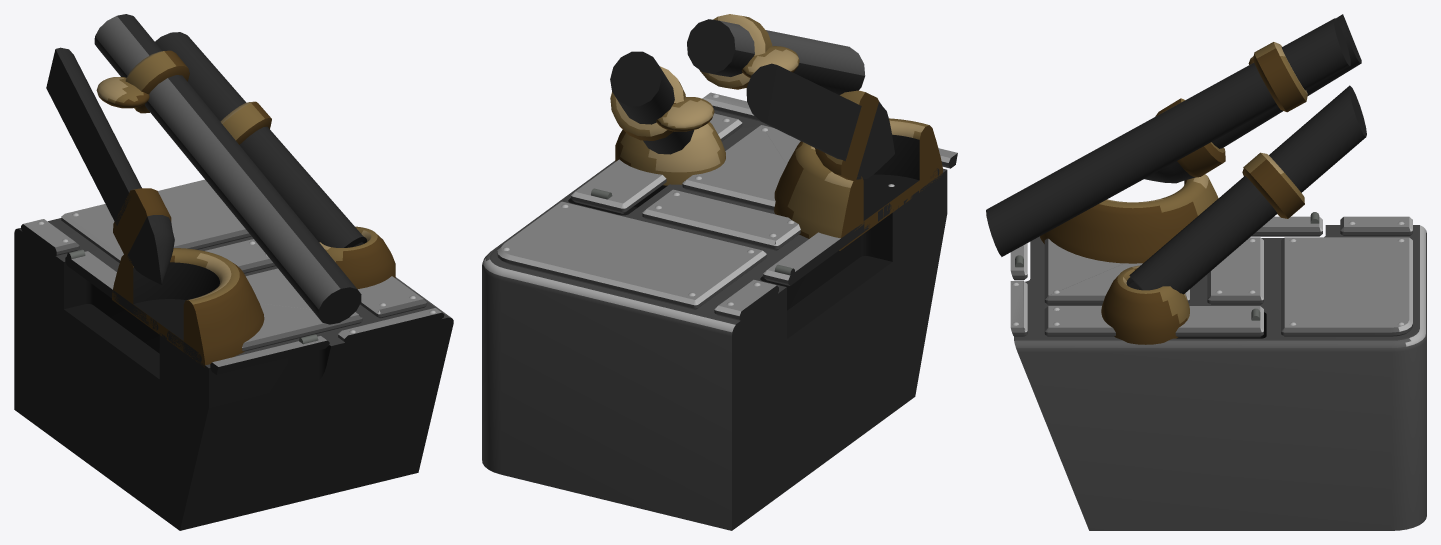
The model's file is asteroid_rig_tr_83.glb.
3 views of the same model, side by side, from view 1: azimuth 30°, elevation 25°; view 2: azimuth 150°, elevation 25°; view 3: azimuth 270°, elevation 25° (orthographic). The views are drawn at different scales.
Parts seen in each view (by area): view 1: asteroid_rig_tr_83; view 2: asteroid_rig_tr_83; view 3: asteroid_rig_tr_83.
Boxes of the visible parts, <box> form: asteroid_rig_tr_83: <box>14,14,453,530</box>; asteroid_rig_tr_83: <box>482,14,957,530</box>; asteroid_rig_tr_83: <box>986,14,1426,530</box>.
Size of the model in its own units: 19 by 31.48 by 29.84.
